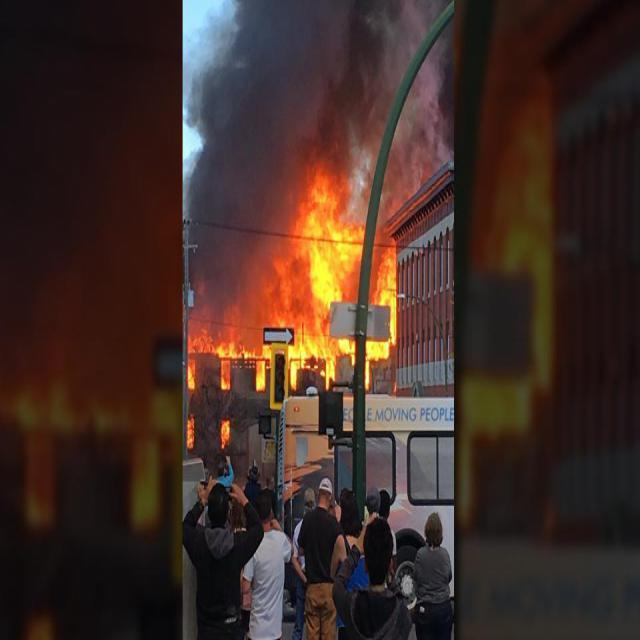Fire: (189, 127, 406, 448)
